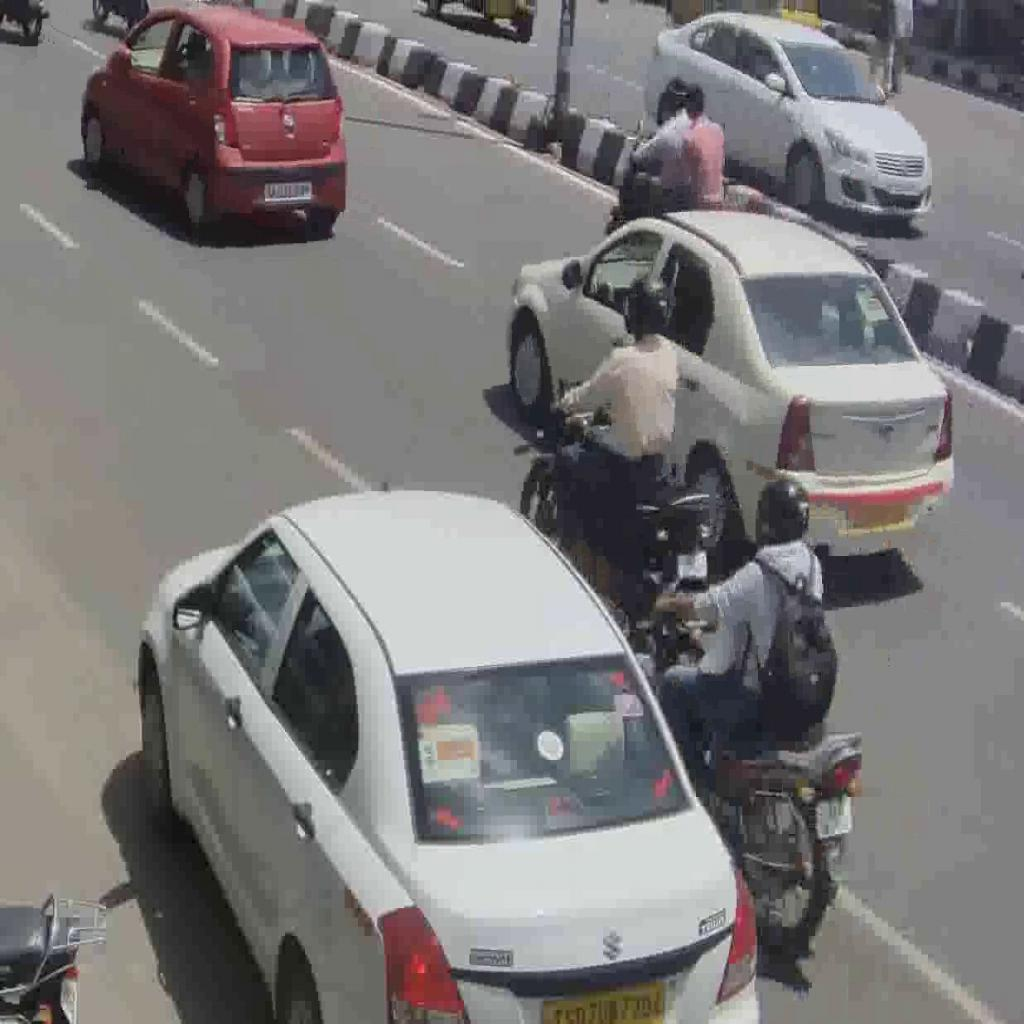helmet: (635, 572, 865, 965), (519, 380, 713, 630)
